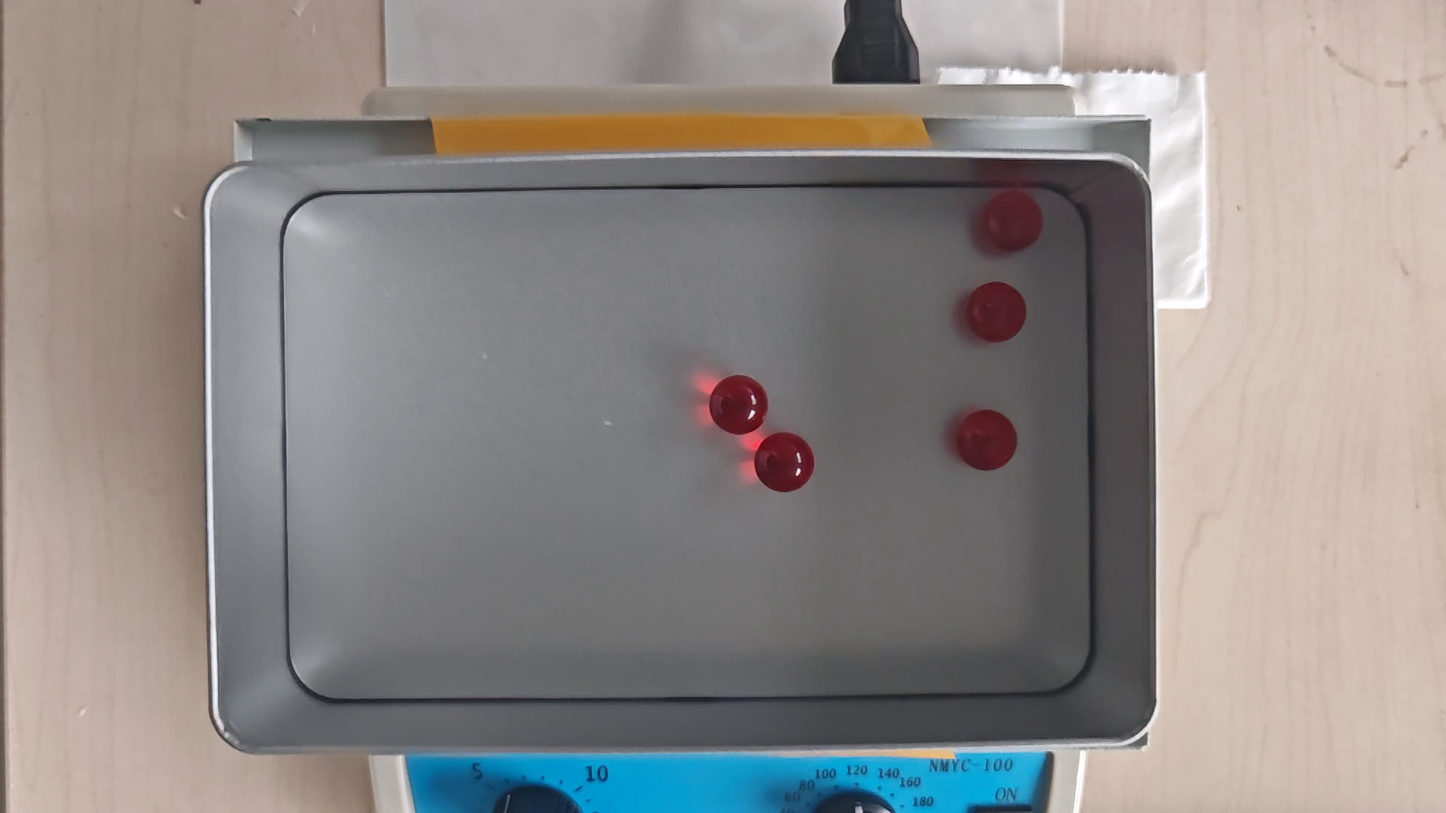ball: (754, 431, 815, 494), (966, 280, 1027, 343), (957, 410, 1017, 472), (982, 192, 1042, 252), (712, 375, 768, 434)
container: (285, 186, 1091, 699)
